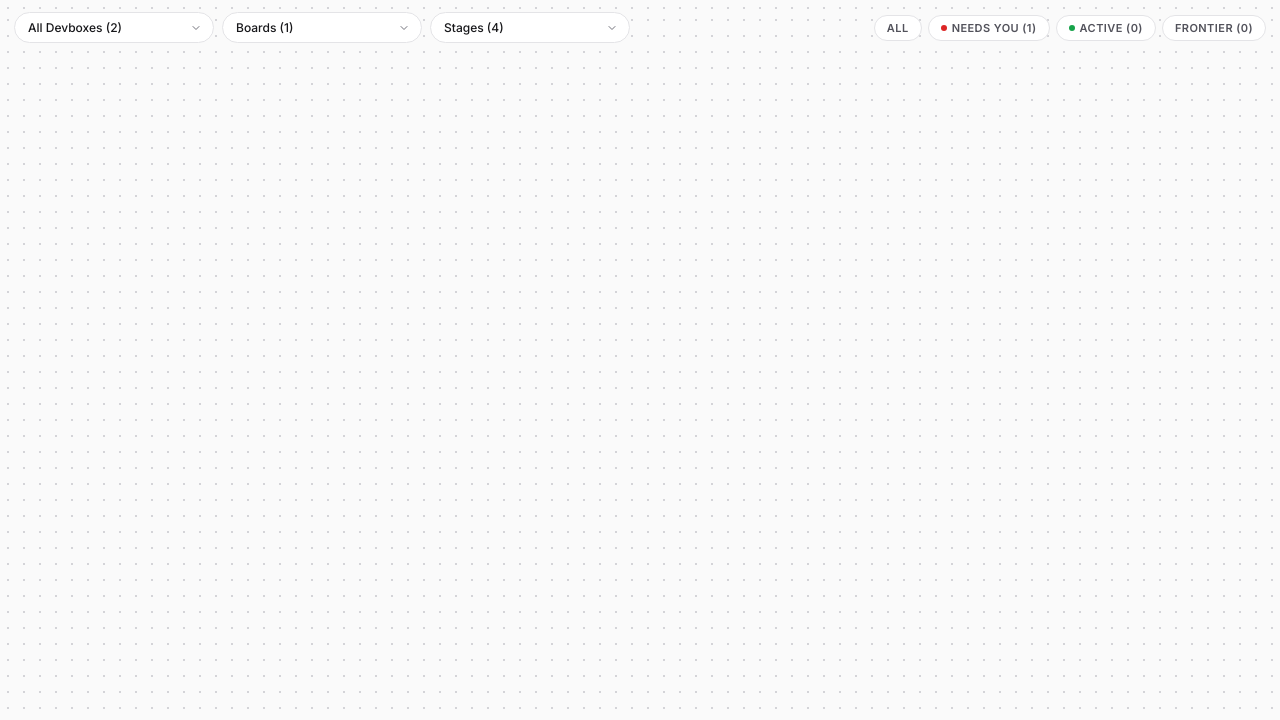
it: Controls Board multi-select › disables Archive and Restore for boards on an offline box
Click the button "Boards (1)" at point(322, 28), box [222,12,422,43]
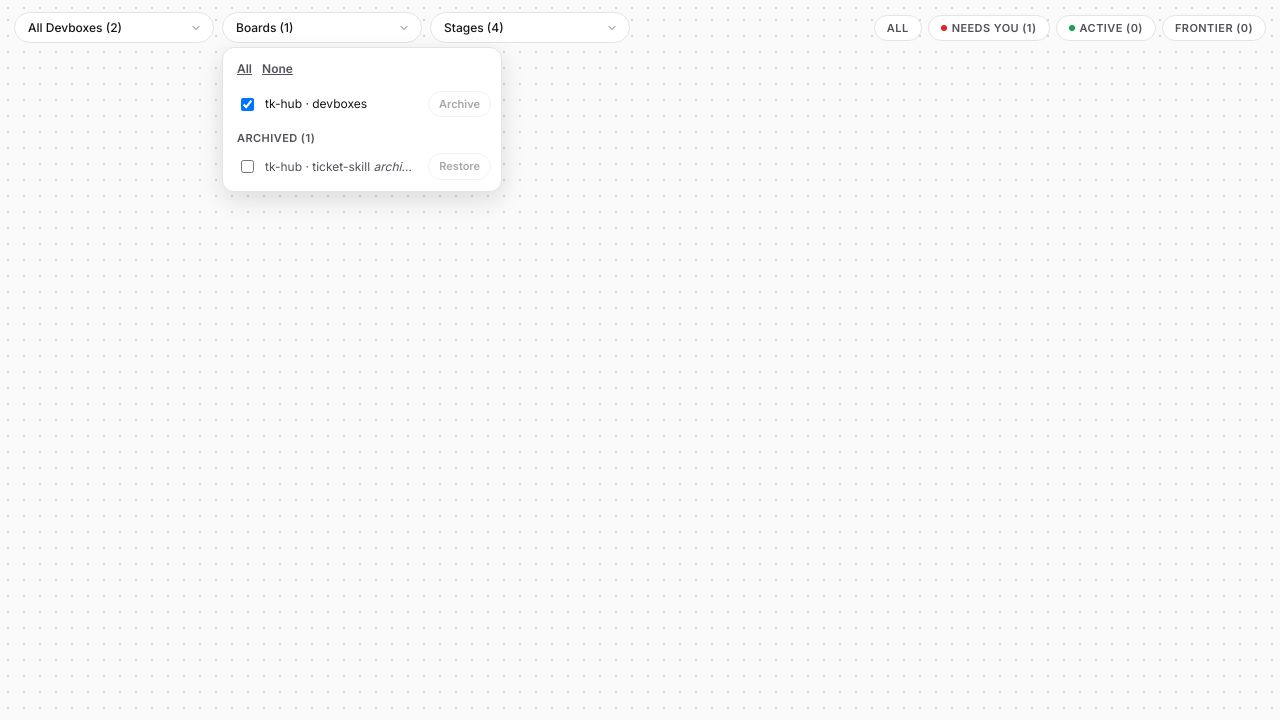
expect the button "Restore" is disabled: met, box [428,153,491,180]
expect the button "Archive" is disabled: met, box [428,91,491,117]
